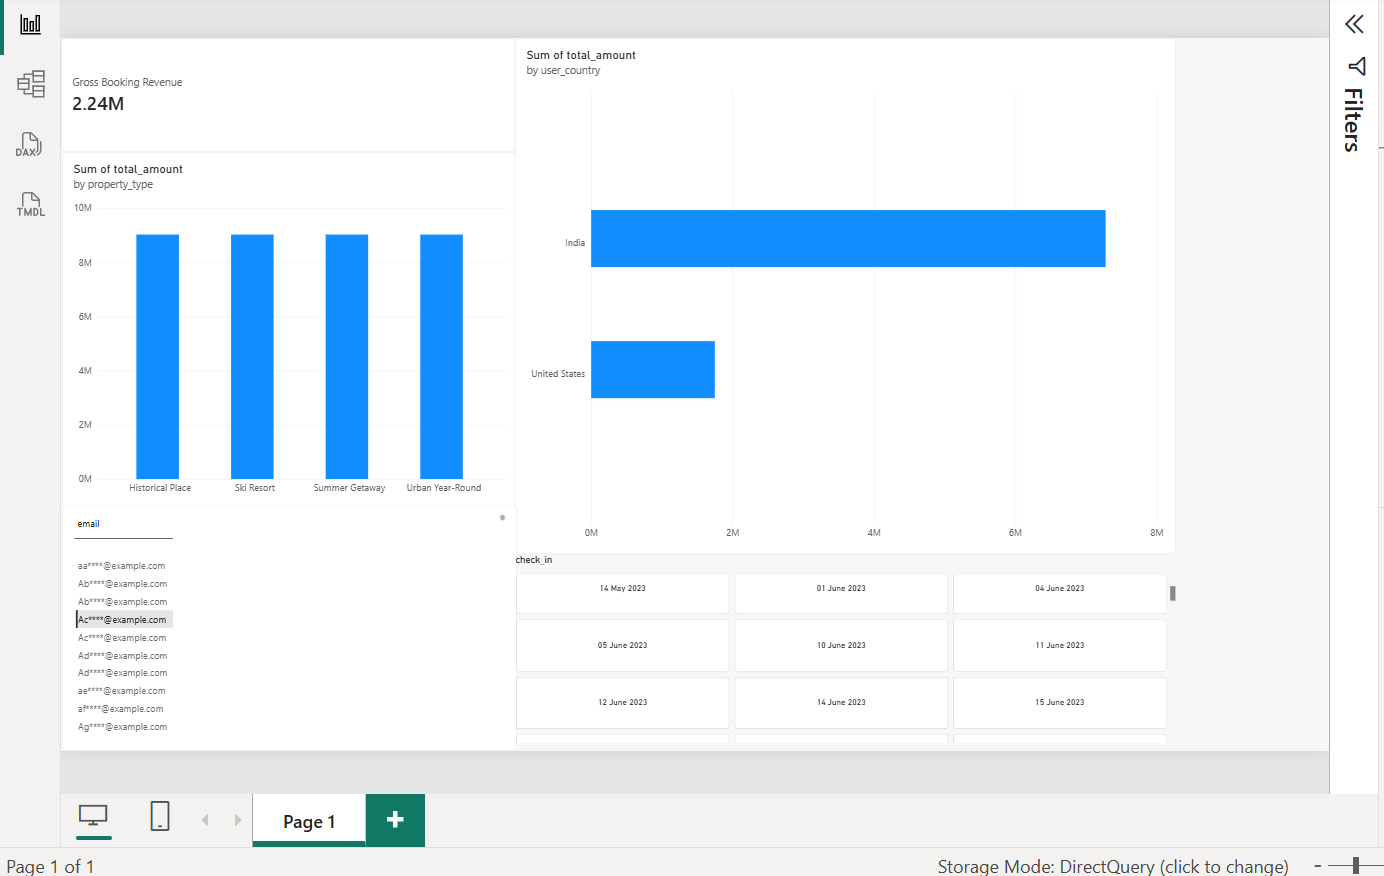

The dashboard page shown, as its layout file describes it:
{"tool":"powerbi","page":{"name":"Page 1","canvas":[1920,1080],"ordinal":0},"visuals":[{"type":"clusteredColumnChart","fields":{"Category":["dim_properties.property_type"],"Y":["Sum(fct_bookings.total_amount)"]},"box":[2.3,172.6,688.2,540.6],"z":0},{"type":"cardVisual","fields":{"Data":["fct_bookings.Gross Booking Revenue"]},"box":[0,0,688.2,172.6],"z":1000},{"type":"clusteredBarChart","fields":{"Category":["fct_bookings.user_country"],"Y":["Sum(fct_bookings.total_amount)"]},"box":[688.2,0,999.4,781.3],"z":2000},{"type":"tableEx","fields":{"Values":["dim_users.email"]},"box":[2.3,706.4,688.2,372.5],"z":2001},{"type":"advancedSlicerVisual","fields":{"Values":["fct_bookings.check_in"]},"box":[688.2,781.3,999.4,286.2],"z":2002}]}

Visuals, with their boxes on the page's 1920x1080 design canvas (x1, y1, x2, y2). These are canvas units, not pixel positions in the 1384x876 screenshot, which may show the page scaled, cropped or inside an application window:
clusteredColumnChart - dim_properties.property_type x Sum(fct_bookings.total_amount): BBox(2, 173, 690, 713)
cardVisual - fct_bookings.Gross Booking Revenue: BBox(0, 0, 688, 173)
clusteredBarChart - fct_bookings.user_country x Sum(fct_bookings.total_amount): BBox(688, 0, 1688, 781)
tableEx - dim_users.email: BBox(2, 706, 690, 1079)
advancedSlicerVisual - fct_bookings.check_in: BBox(688, 781, 1688, 1068)
